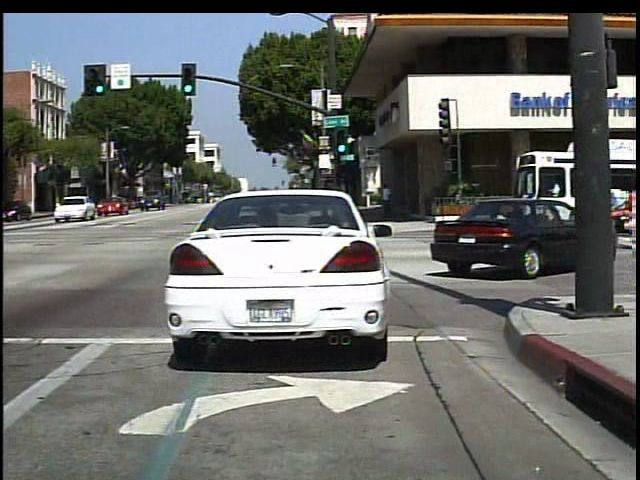person: (378, 180, 397, 222)
